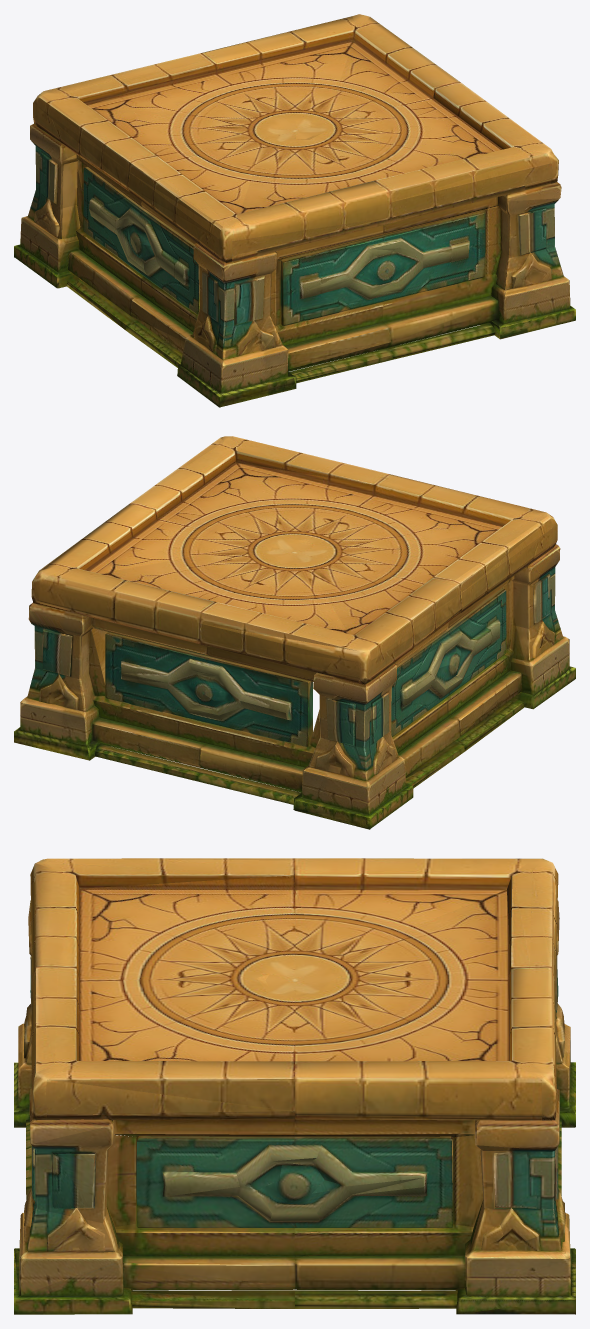
Rendered from platform.glb.
The picture shows the model from 3 angles, top to bottom: view 1: azimuth 30°, elevation 25°; view 2: azimuth 150°, elevation 25°; view 3: azimuth 270°, elevation 25°; orthographic projection. The views are drawn at different scales.
Bounding box in the file's own units: 1 × 0.4521 × 1.
Materials: 1 (1 with a texture image).
